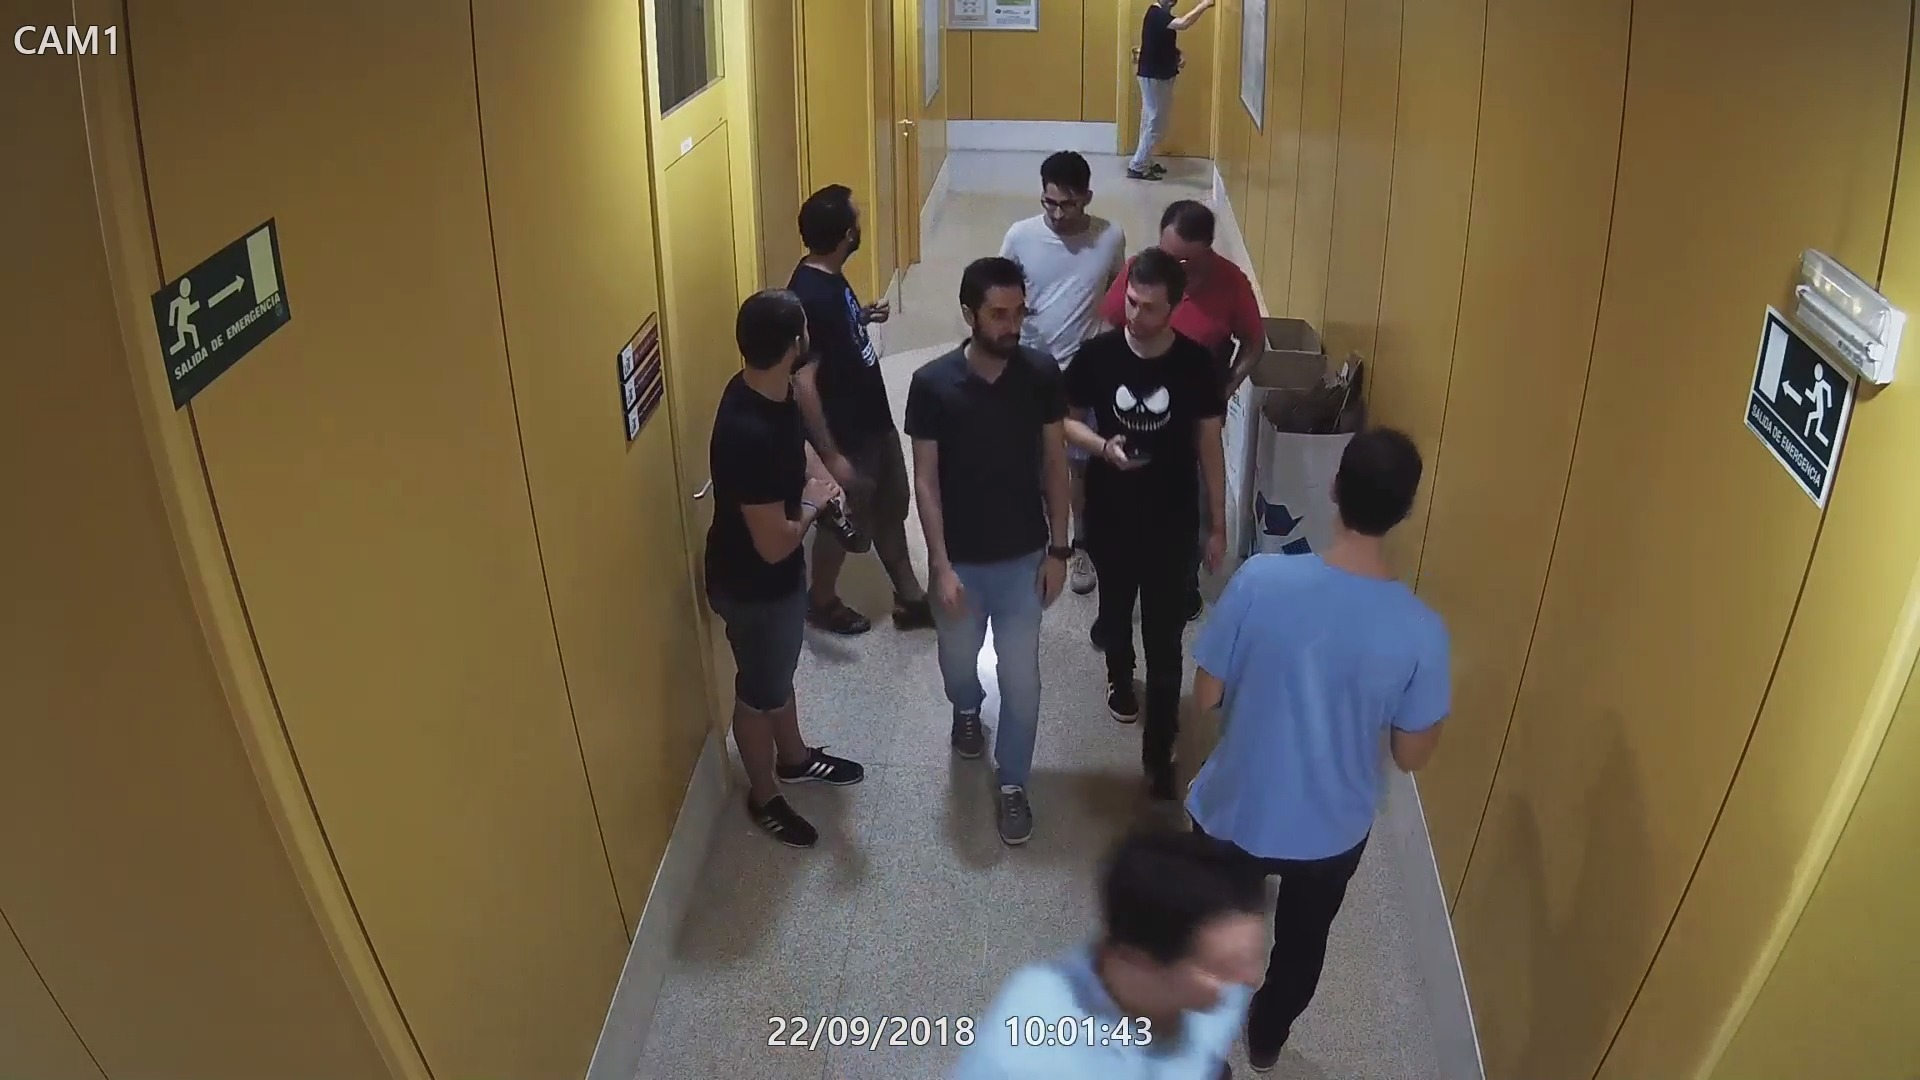Short_rifle: (794, 477, 870, 553), (1215, 330, 1242, 423)
